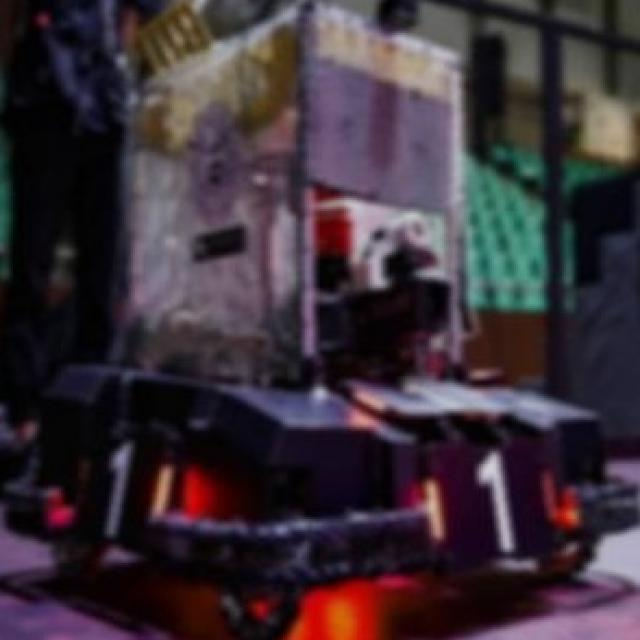R1: (422, 449, 564, 556)
